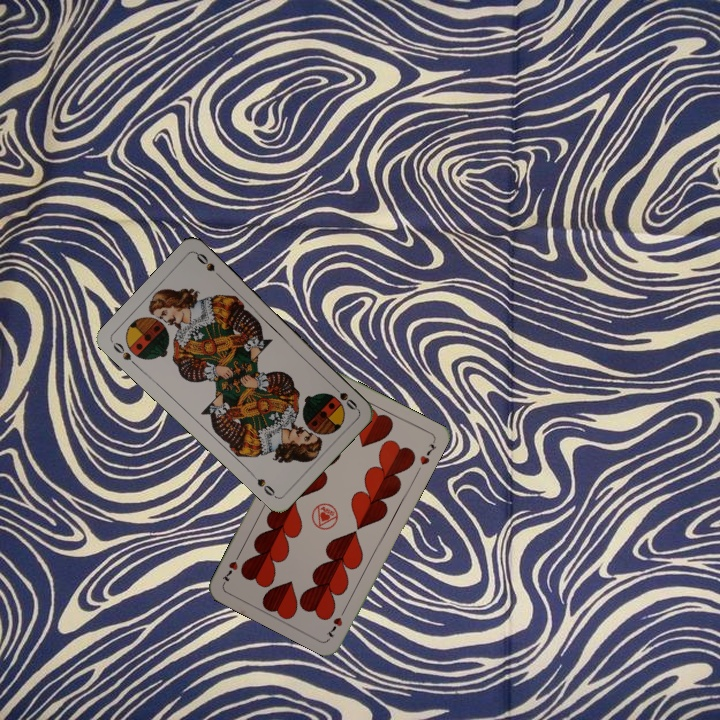H7: (322, 604, 349, 641)
SO: (328, 380, 360, 413), (109, 338, 141, 370)
